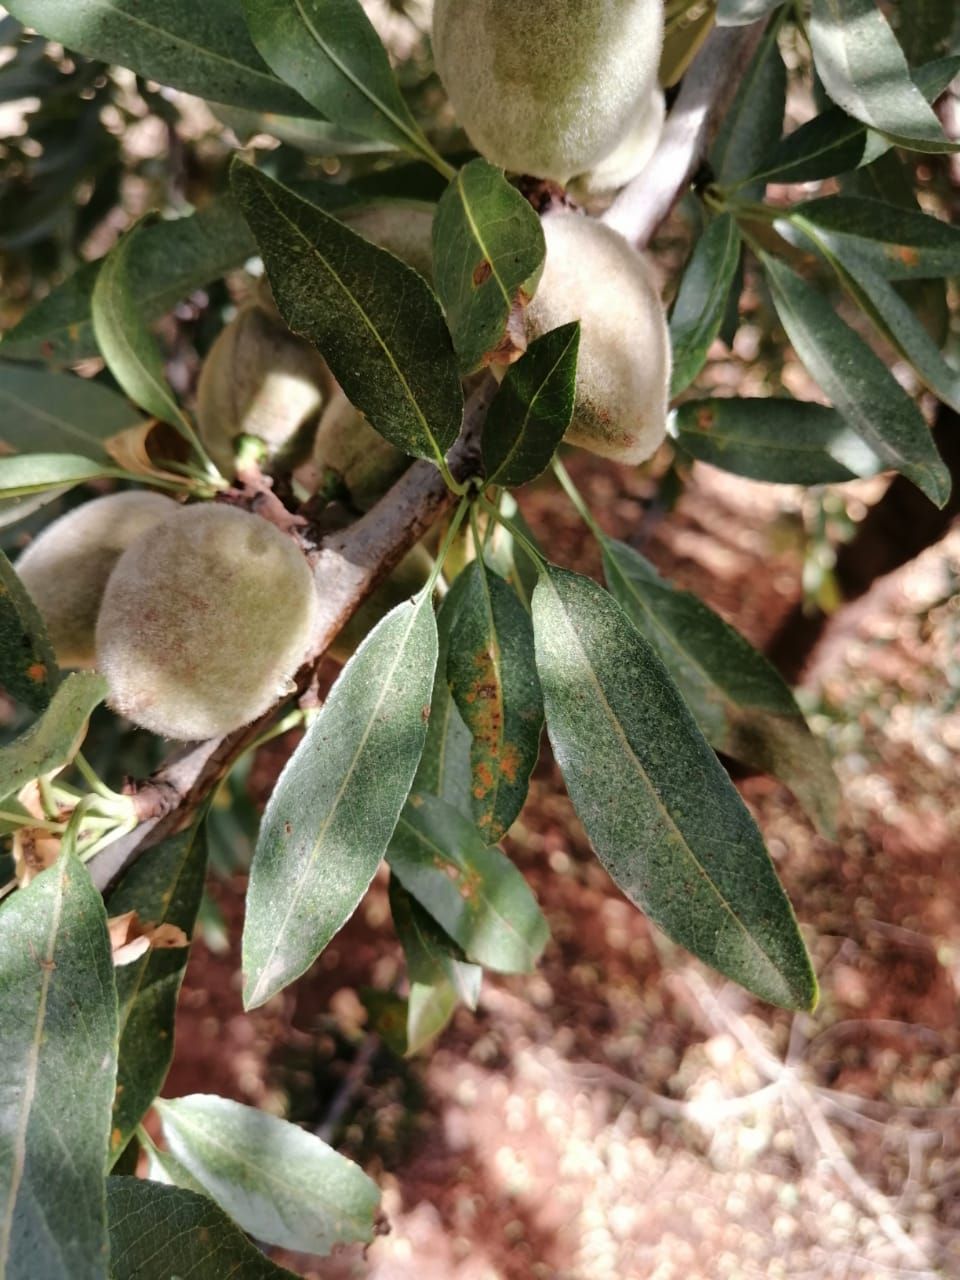acariens: (534, 564, 822, 1017), (240, 592, 441, 1015), (226, 153, 460, 465)
